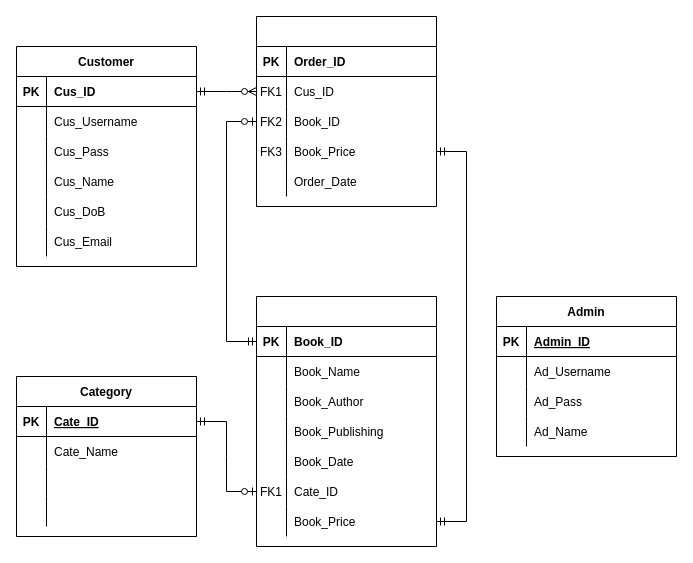
This 693x563 diagram has some shape labels left out. The shapes that lost their labels are listed below. From the top down, each one's box as (x1, y1, x2, y2) in pixels, then its label:
(256, 16, 436, 206): Orders
(256, 296, 436, 546): Books
